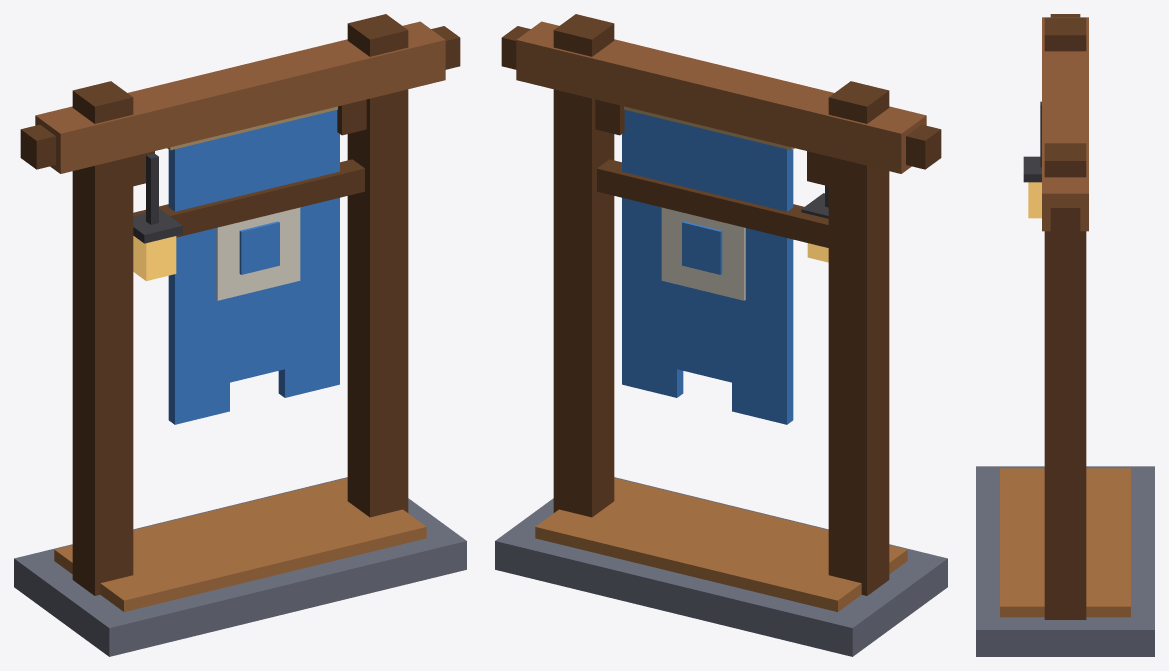
File: FlagFrame.glb
The picture shows the model from 3 angles, left to right: view 1: azimuth 30°, elevation 25°; view 2: azimuth 150°, elevation 25°; view 3: azimuth 270°, elevation 25°; orthographic projection. The views are drawn at different scales.
Parts seen in each view (by area): view 1: FlagFrame; view 2: FlagFrame; view 3: FlagFrame.
Boxes of the visible parts, x1=… form: FlagFrame: x1=14, y1=14, x2=466, y2=656; FlagFrame: x1=495, y1=14, x2=947, y2=656; FlagFrame: x1=976, y1=14, x2=1154, y2=656.
Bounding box in the file's own units: 15.4 × 18 × 6.
Materials: 2 (2 with a texture image).
